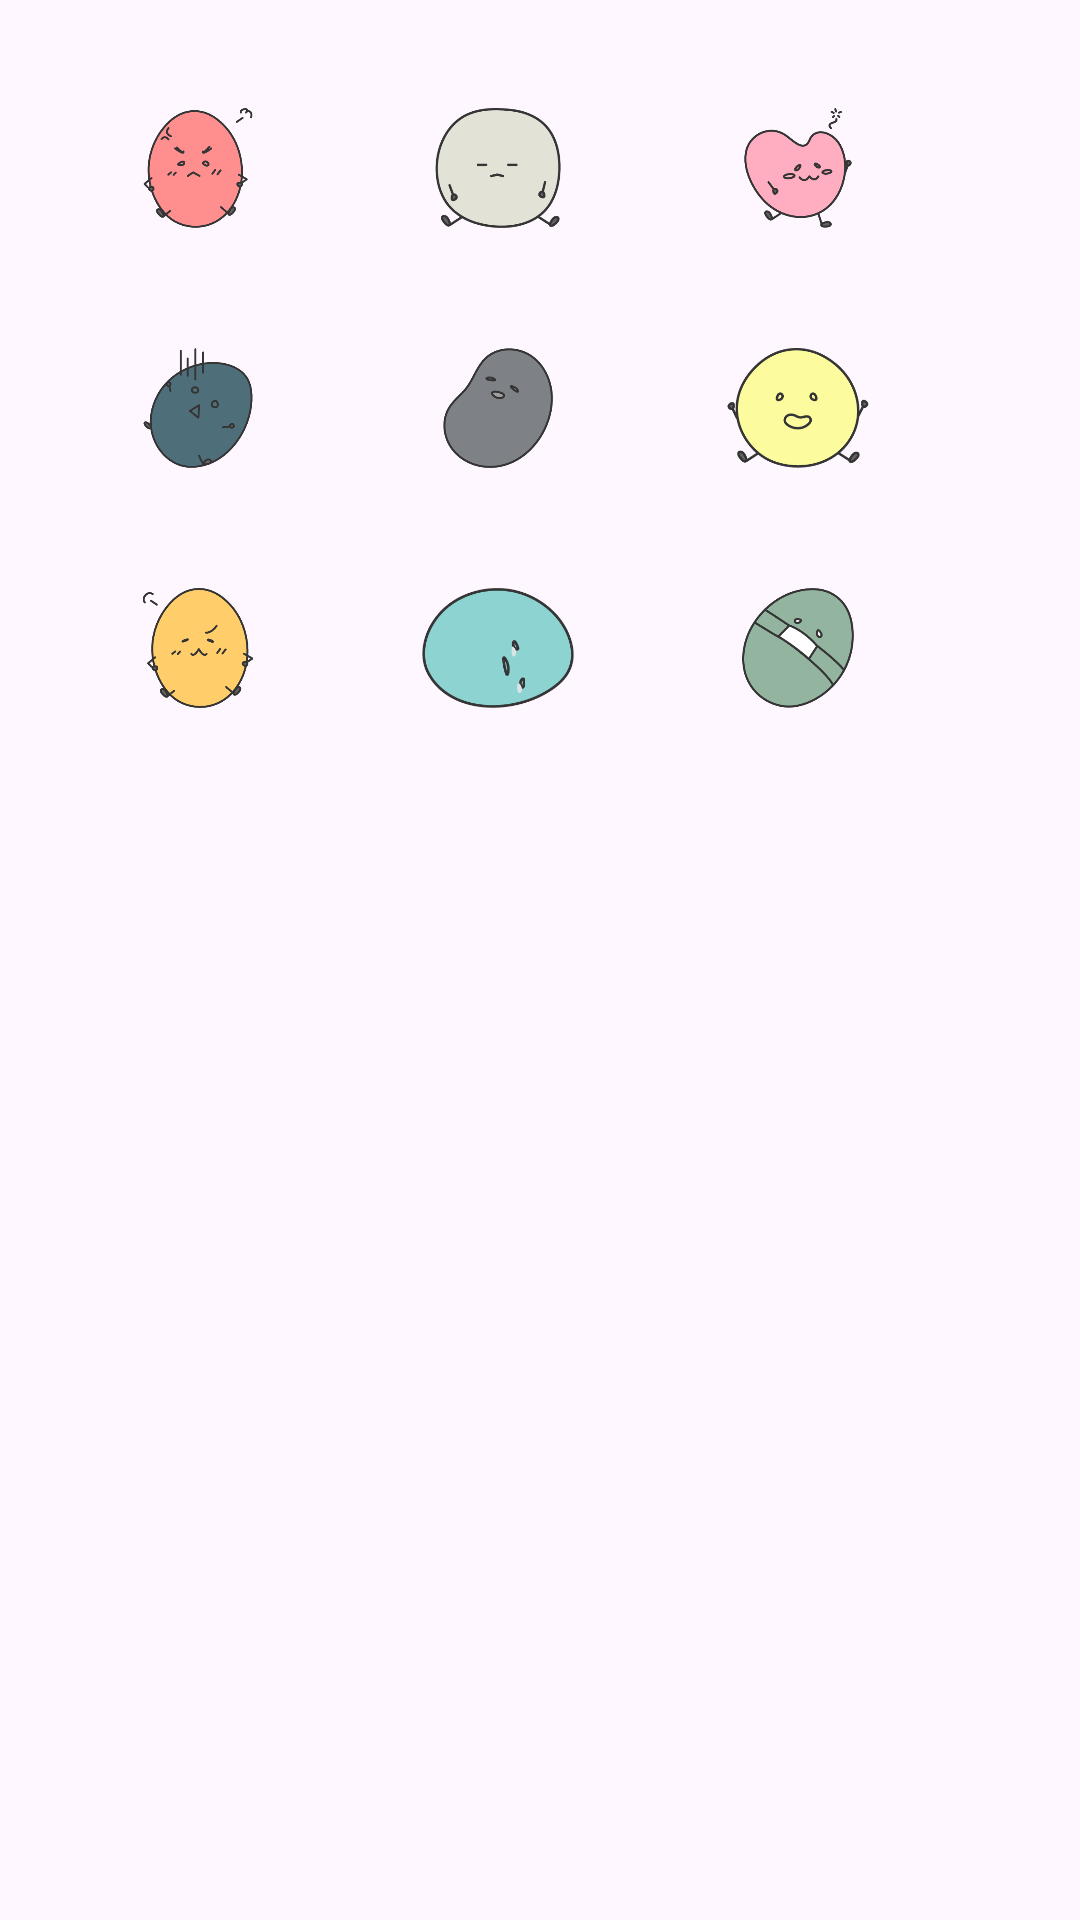

Named icons in this screenshot (1080px×1920px) and their centers, (x,y):
emoji angry: (198,168)
emoji basic: (498,168)
emoji proud: (198,648)
emoji sad: (498,648)
emoji sick: (798,648)
